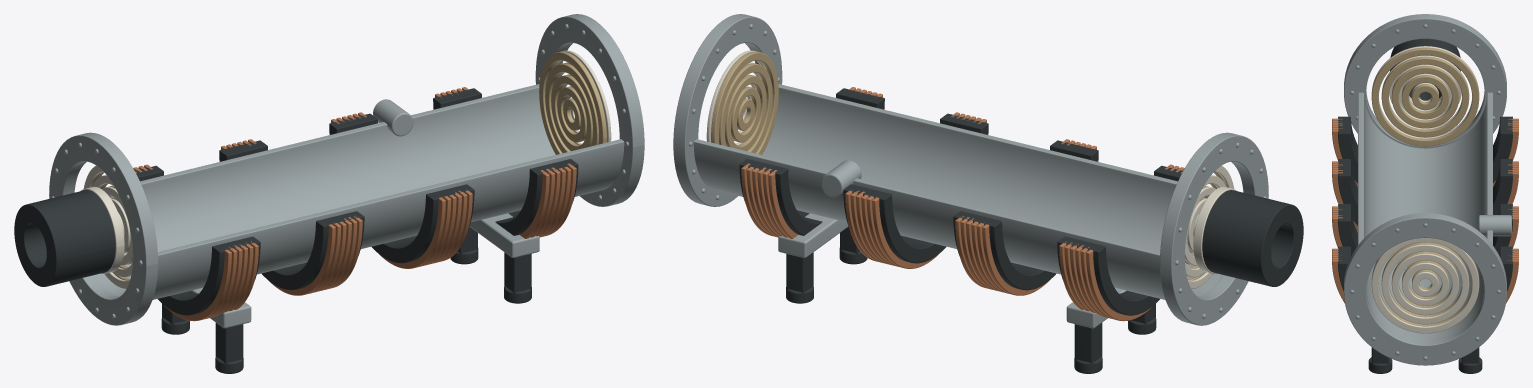
The model's file is doublewell.glb.
3 views of the same model, side by side, from view 1: azimuth 30°, elevation 25°; view 2: azimuth 150°, elevation 25°; view 3: azimuth 270°, elevation 25° (orthographic). The views are drawn at different scales.
Visible parts, largest first — view 1: Cutaway vacuum column, Vacuum flange.001, Source body, Vacuum flange, Solenoid former.002, Solenoid former.003, Solenoid former.001, Solenoid former, Independently biased annular electrode, Support saddle.001, Independently biased annular electrode.009, Independently biased annular electrode.008 (+11 smaller); view 2: Cutaway vacuum column, Vacuum flange.001, Source body, Vacuum flange, Solenoid former.002, Solenoid former.003, Solenoid former.001, Solenoid former, Independently biased annular electrode, Support saddle.001, Independently biased annular electrode.009, Independently biased annular electrode.008 (+11 smaller); view 3: Cutaway vacuum column, Vacuum flange, Vacuum flange.001, Independently biased annular electrode.005, Annular ceramic spacer, Independently biased annular electrode.004, Annular ceramic spacer.009, Solenoid former.001, Solenoid former.002, Independently biased annular electrode.003, Annular ceramic spacer.008, Solenoid former.003 (+24 smaller).
Boxes of the visible parts, x1,y1,x2,y2 form: Cutaway vacuum column: (95, 84, 624, 299); Vacuum flange.001: (49, 132, 157, 325); Source body: (14, 190, 115, 286); Vacuum flange: (535, 14, 644, 206); Solenoid former.002: (219, 140, 364, 290); Solenoid former.003: (329, 113, 474, 263); Solenoid former.001: (135, 165, 260, 315); Solenoid former: (433, 88, 578, 235); Independently biased annular electrode: (539, 51, 606, 154); Support saddle.001: (469, 213, 539, 257); Independently biased annular electrode.009: (545, 63, 598, 153); Independently biased annular electrode.008: (551, 75, 592, 151); Cutaway vacuum column: (693, 84, 1222, 299); Vacuum flange.001: (1160, 132, 1268, 325); Source body: (1202, 190, 1303, 286); Vacuum flange: (673, 14, 782, 206); Solenoid former.002: (953, 140, 1098, 290); Solenoid former.003: (843, 113, 988, 263); Solenoid former.001: (1057, 165, 1182, 315); Solenoid former: (739, 88, 884, 235); Independently biased annular electrode: (711, 51, 778, 154); Support saddle.001: (778, 213, 848, 257); Independently biased annular electrode.009: (719, 63, 772, 153); Independently biased annular electrode.008: (725, 75, 766, 151); Cutaway vacuum column: (1358, 92, 1492, 340); Vacuum flange: (1344, 213, 1506, 365); Vacuum flange.001: (1344, 14, 1506, 148); Independently biased annular electrode.005: (1371, 48, 1479, 146); Annular ceramic spacer: (1371, 238, 1479, 333); Independently biased annular electrode.004: (1381, 57, 1469, 137); Annular ceramic spacer.009: (1381, 244, 1469, 324); Solenoid former.001: (1338, 116, 1512, 182); Solenoid former.002: (1338, 159, 1512, 225); Independently biased annular electrode.003: (1391, 66, 1459, 128); Annular ceramic spacer.008: (1391, 253, 1459, 315); Solenoid former.003: (1338, 204, 1512, 254).
Size of the model in its own units: 4.6 by 1.82 by 1.58.
